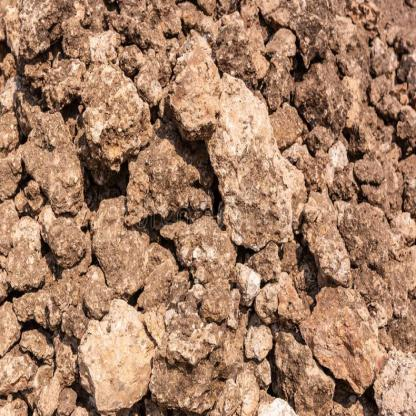Sedimentary_Limestone: (210, 79, 296, 254), (82, 60, 173, 180), (71, 289, 151, 415), (127, 134, 213, 232), (309, 294, 388, 388), (289, 57, 352, 154), (300, 186, 360, 284), (166, 32, 218, 145), (265, 34, 311, 86)
